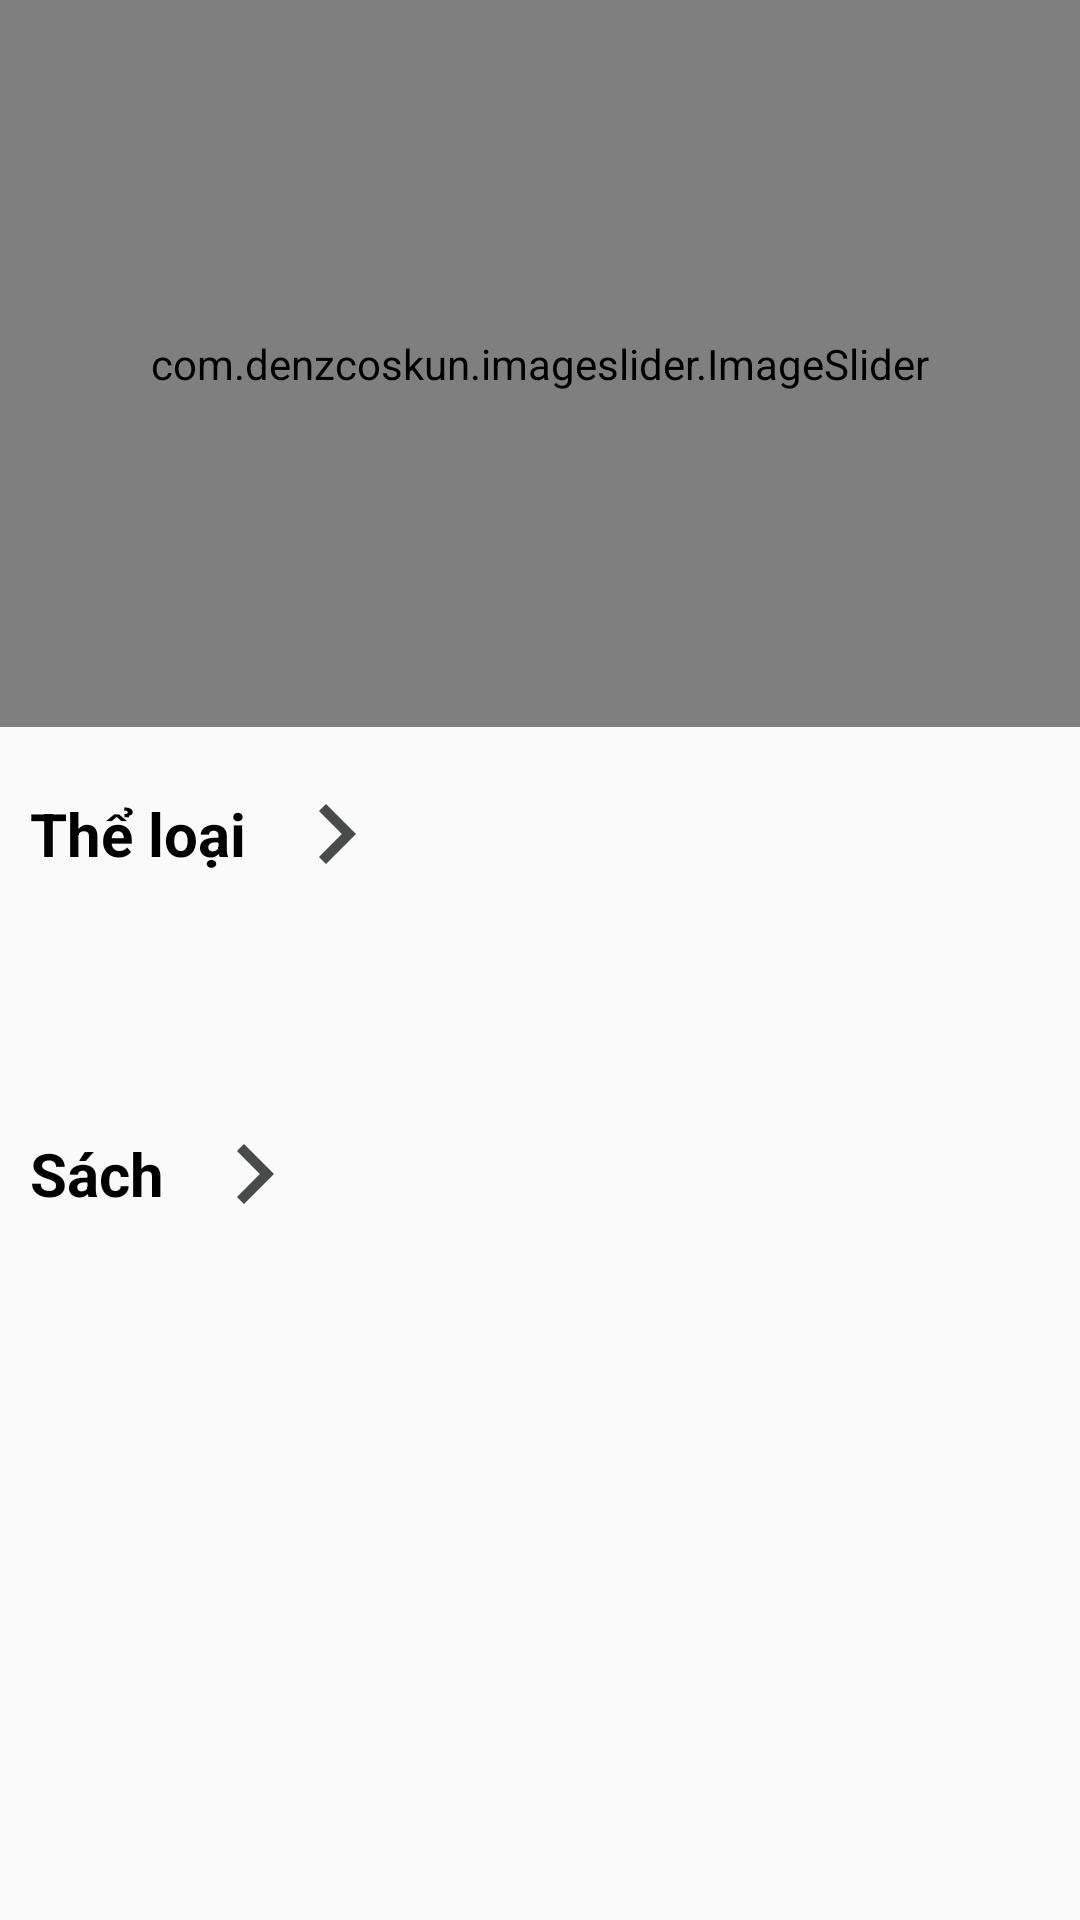

Locate icon controls on the screen. Image size 1080px x 1920px, boxes as (x1, y1, x2, y2).
navigate next: (319, 804, 356, 864), (237, 1144, 274, 1204)
